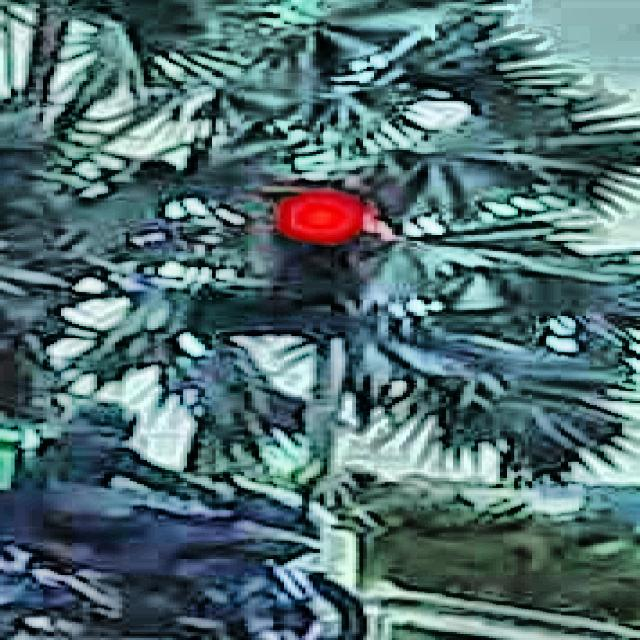red: (280, 191, 360, 330)
